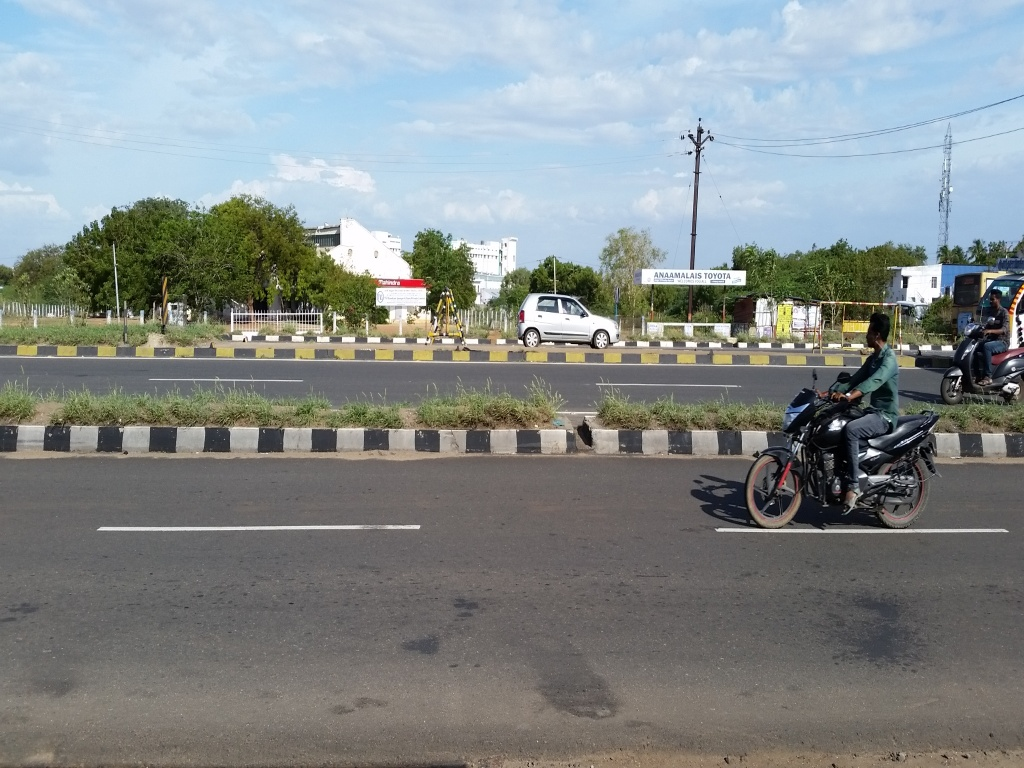biker: (740, 286, 945, 537), (942, 263, 1024, 415)
nohelmet: (861, 302, 902, 361), (980, 285, 1011, 322)
